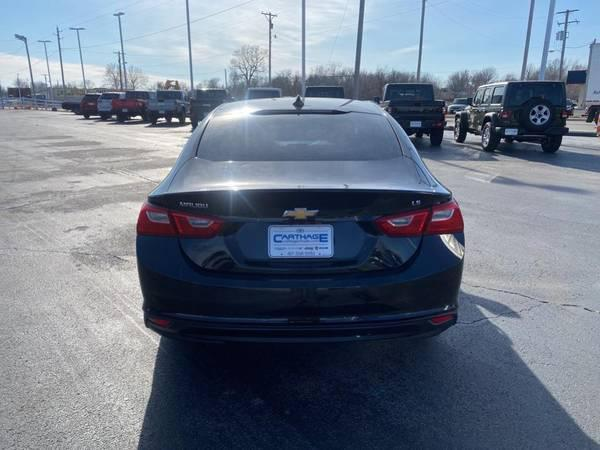Left_Taillight: (134, 202, 224, 236)
Rear_Bumper: (135, 230, 466, 342)
Rear_Windshield: (196, 109, 402, 161)
Right_Taillight: (373, 197, 463, 235)
Roof: (176, 93, 422, 162)
Tailgate: (151, 154, 449, 276)
